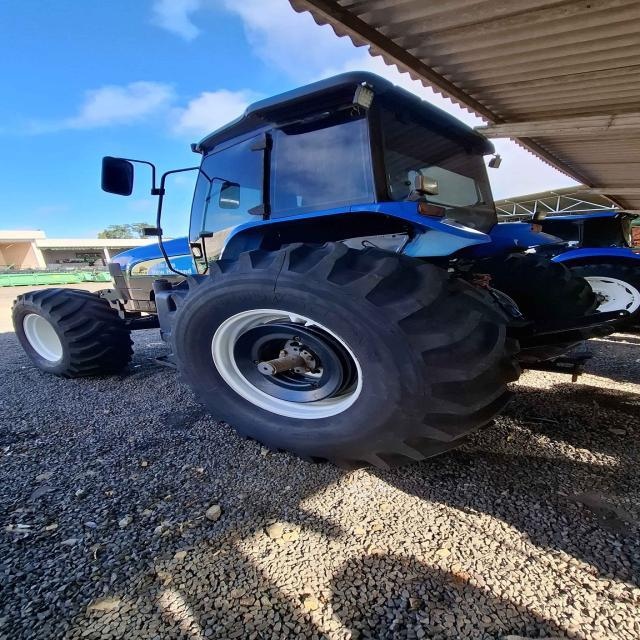Tratores - v5 YOLO V8L 2024-11-13: (20, 68, 579, 464)
